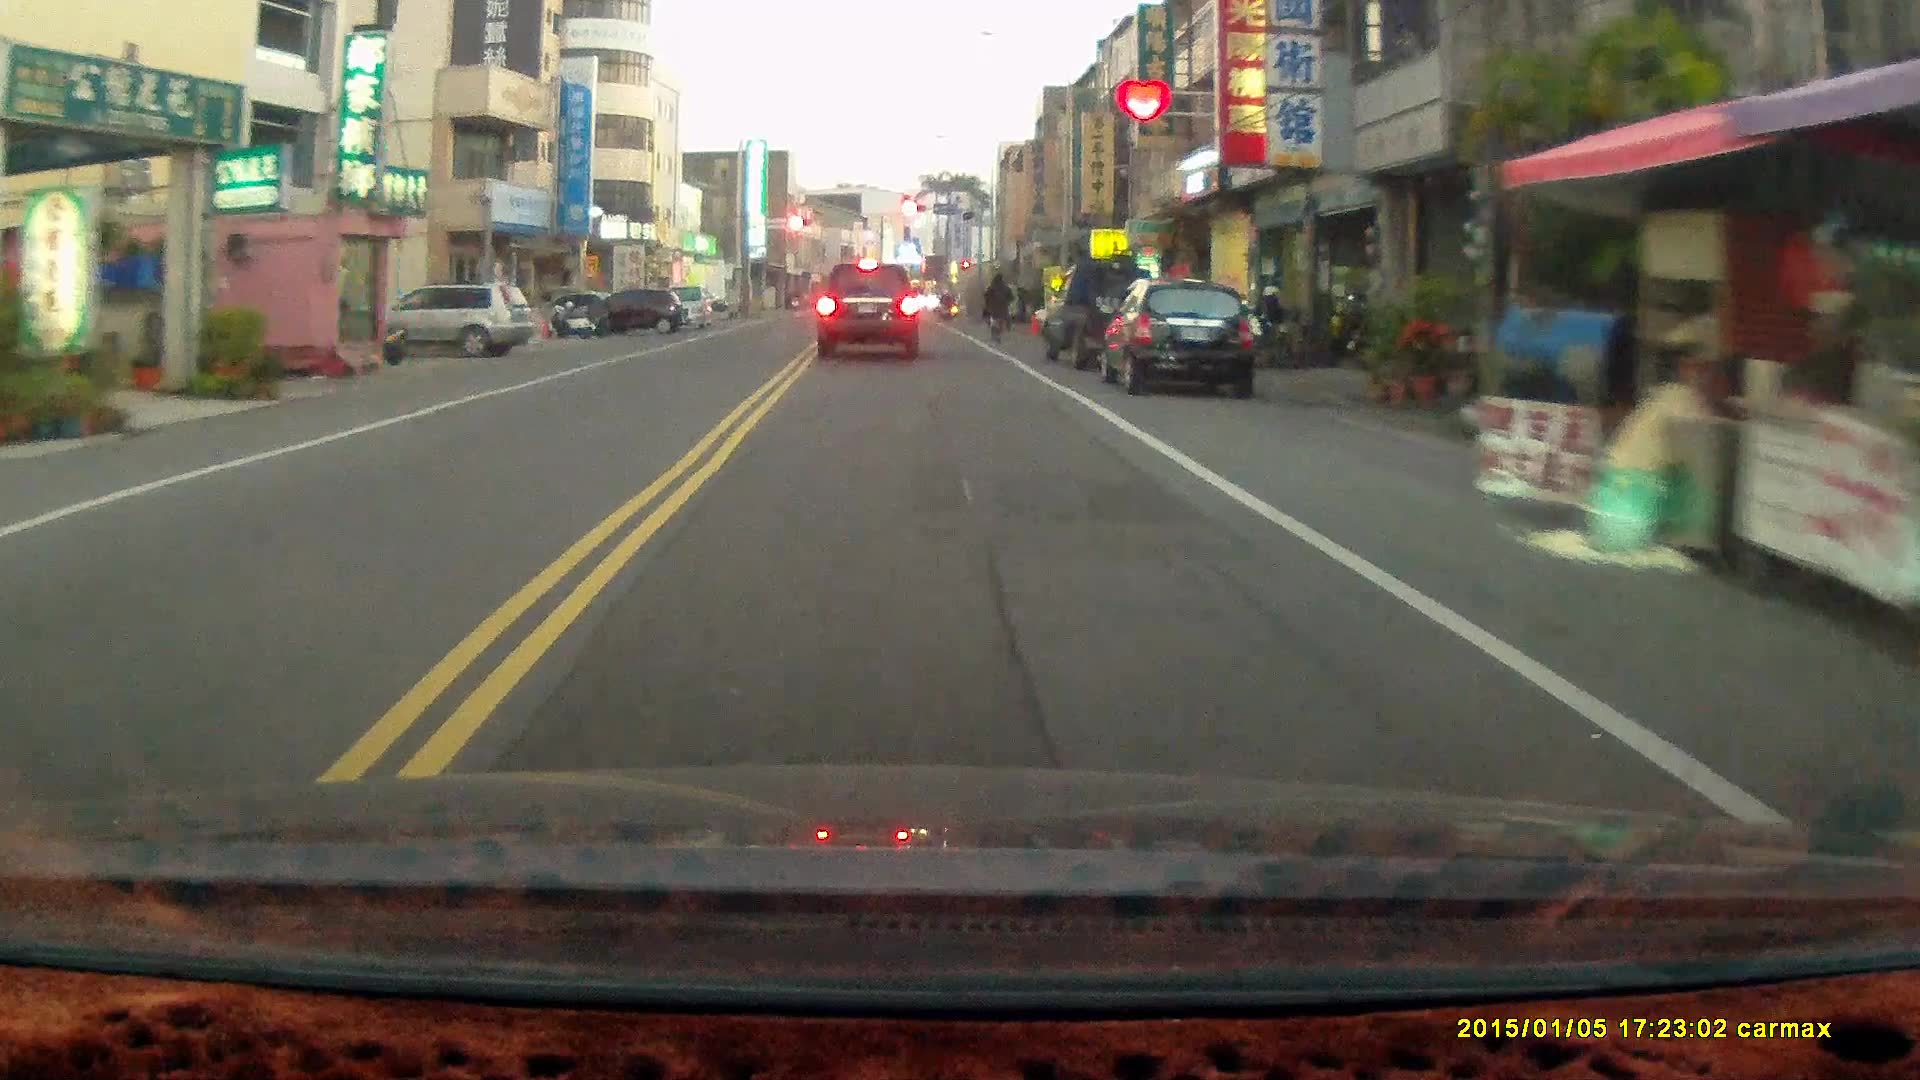rider: (981, 270, 1012, 342)
vehicle: (1103, 281, 1264, 400), (345, 283, 534, 353), (815, 261, 923, 361), (564, 291, 687, 338)
